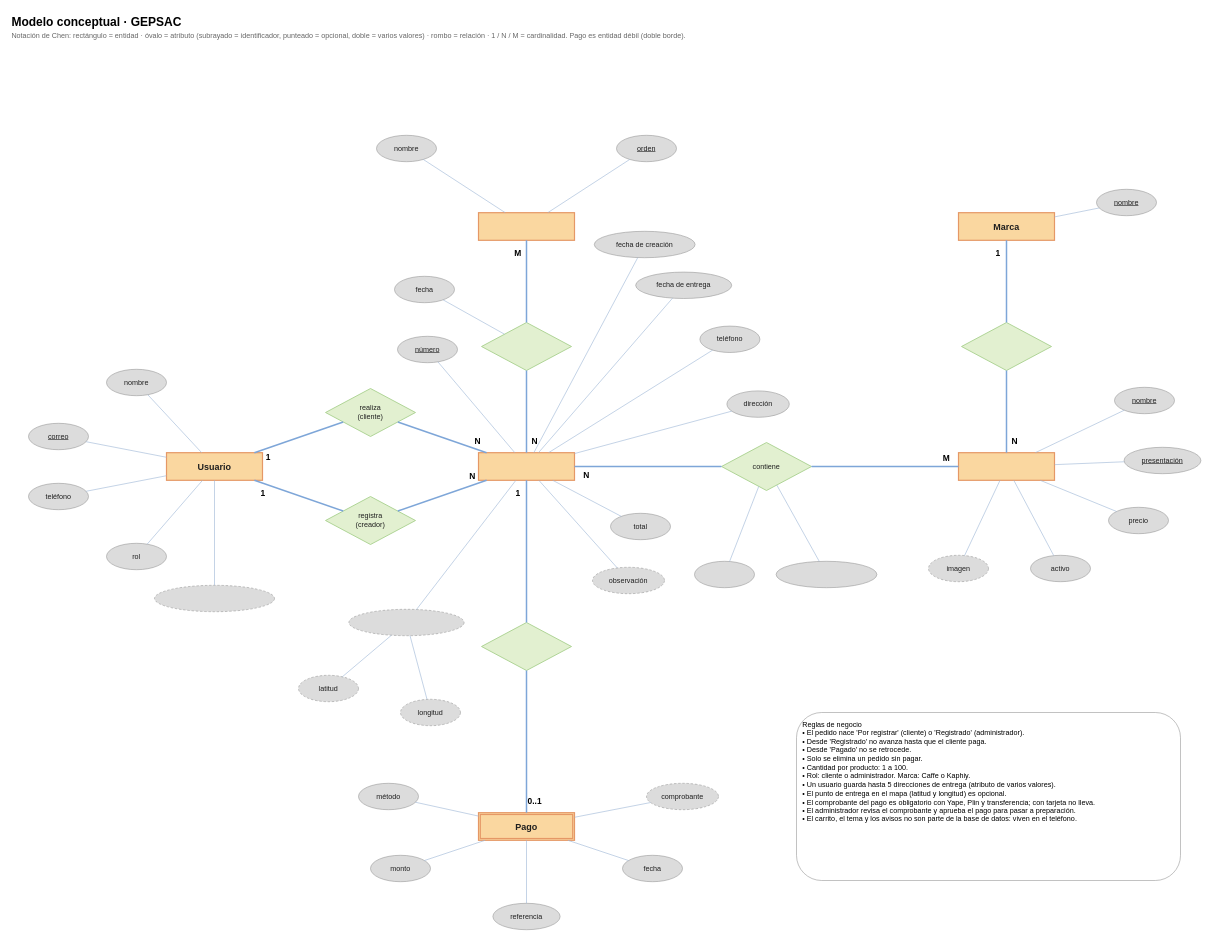
The diagram is 1211 pixels wide and 940 high, and some of its shapes have lost their labels. The centre of each missing label's shape, as x and y in pixels:
"agrupa" belongs at [1006,346].
"cantidad" belongs at [724,574].
"direcciones guardadas" belongs at [214,598].
"Etapa" belongs at [526,226].
"pasa por" belongs at [526,346].
"Pedido" belongs at [526,466].
"precio al comprar" belongs at [826,574].
"Producto" belongs at [1006,466].
"se paga con" belongs at [526,646].
"ubicación en el mapa" belongs at [406,622].
